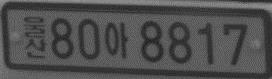0: (76, 18, 101, 60)
1: (197, 21, 214, 65)
7: (221, 21, 249, 66)
8: (49, 16, 75, 59), (139, 18, 164, 61), (168, 21, 192, 65)
아: (101, 20, 129, 59)
울산_V: (22, 14, 48, 59)
